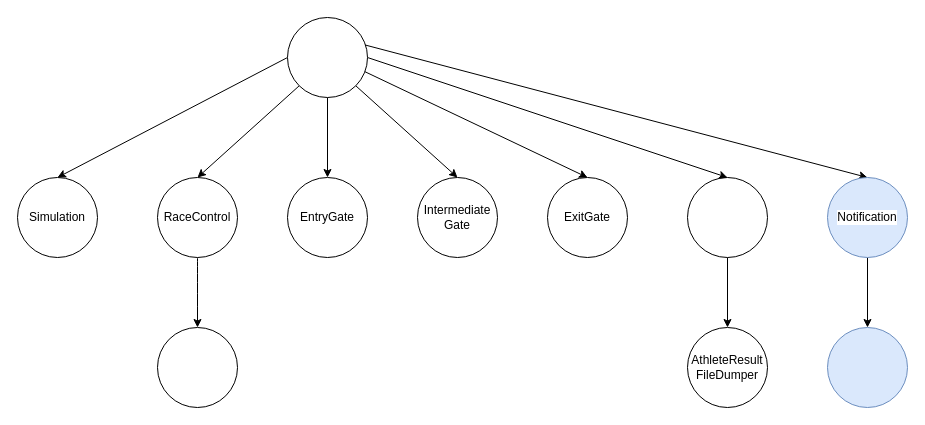
The diagram is 925 pixels wide and 425 high, and some of its shapes have lost their labels. The centre of each missing label's shape, as x and y in pixels:
Athlete: (x=197, y=367)
Phone Notification: (x=867, y=367)
Standing: (x=727, y=217)
User: (x=327, y=57)
